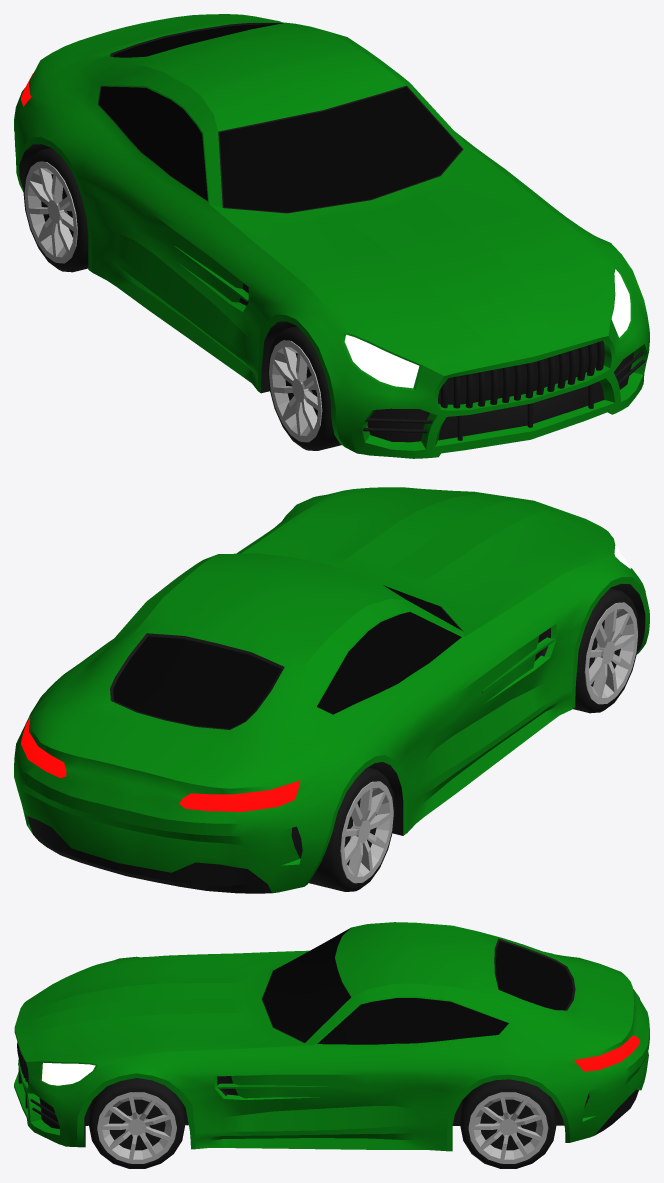
File: AMG GTR.fbx
3 renders of one model, top to bottom at view 1: azimuth 30°, elevation 25°; view 2: azimuth 150°, elevation 25°; view 3: azimuth 270°, elevation 25°, orthographic. The views are drawn at different scales.
Parts seen in each view (by area): view 1: AMG_GTR, FR_Wheel, BR_Wheel; view 2: AMG_GTR, BR_Wheel, FR_Wheel; view 3: AMG_GTR, BL_Wheel, FL_Wheel.
Part boxes in pixels (box(x1,y1,x2,y2)): AMG_GTR: box(14, 14, 649, 458); FR_Wheel: box(267, 326, 341, 450); BR_Wheel: box(23, 147, 88, 272); AMG_GTR: box(14, 487, 649, 893); BR_Wheel: box(309, 767, 394, 891); FR_Wheel: box(573, 588, 639, 713); AMG_GTR: box(14, 922, 649, 1151); BL_Wheel: box(460, 1079, 556, 1168); FL_Wheel: box(89, 1078, 184, 1168).
Bounding box in the file's own units: 199 × 129 × 455.
